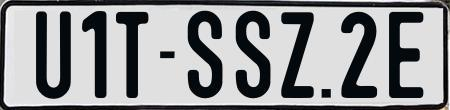1: (82, 9, 113, 100)
2: (339, 11, 381, 101)
E: (389, 9, 423, 97)
S: (187, 9, 227, 101), (234, 9, 271, 100)
T: (114, 12, 147, 101)
U: (34, 8, 69, 97)
Z: (281, 9, 318, 97)
